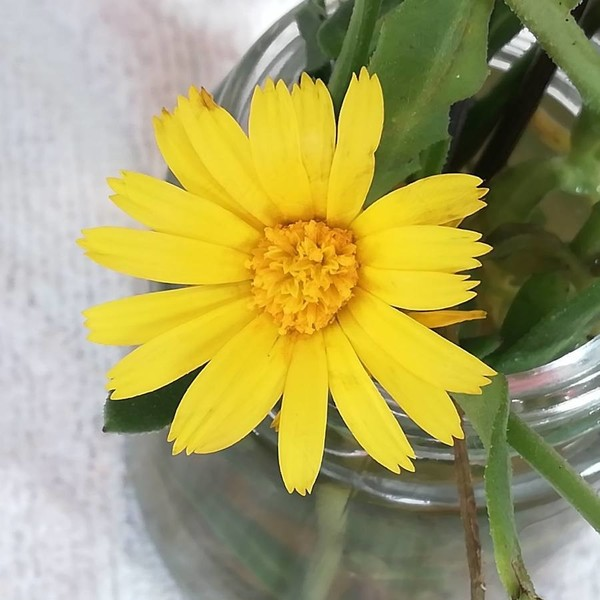obstacle: (97, 30, 572, 562)
